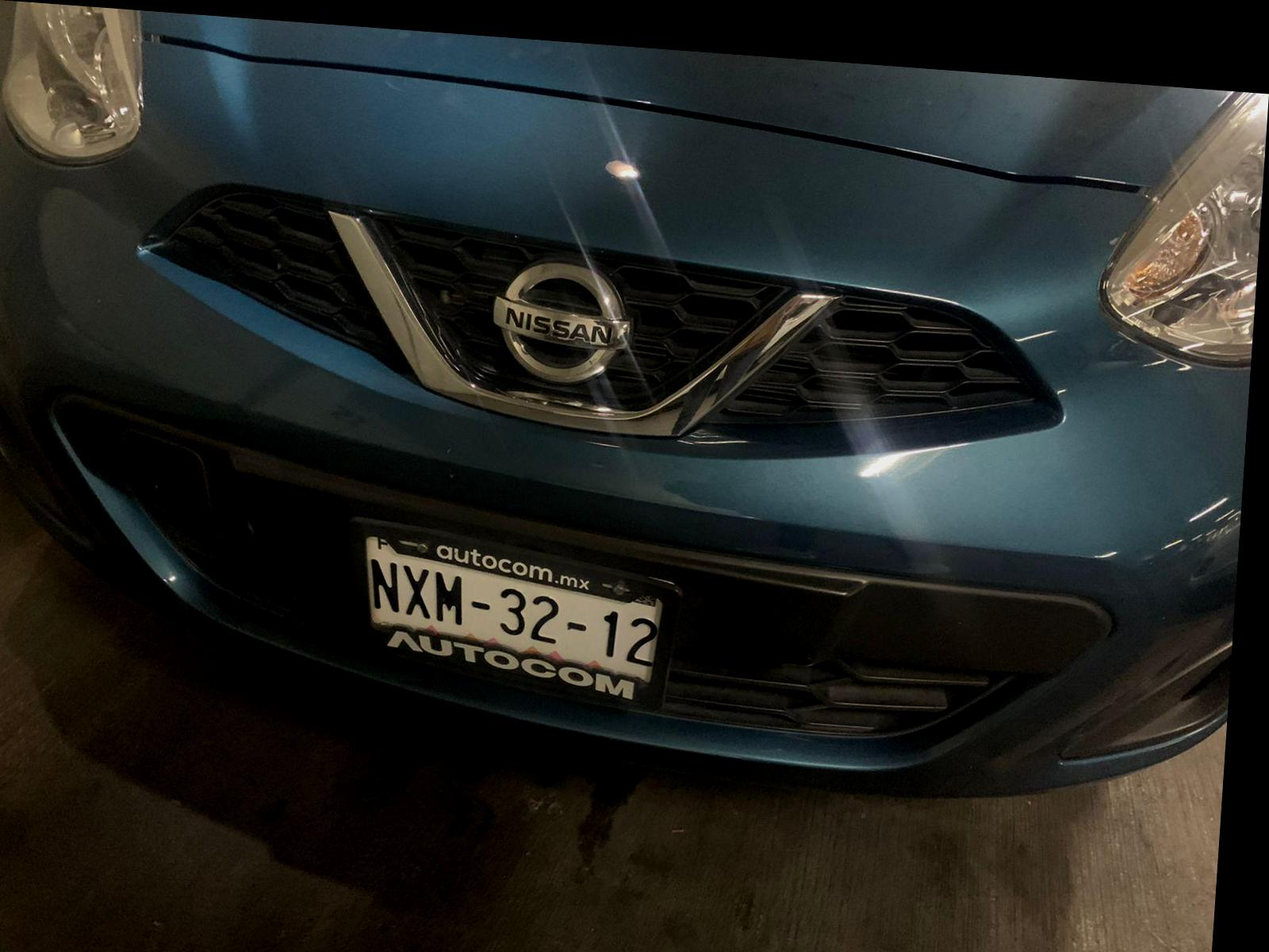License_Plate: (321, 517, 699, 737)
